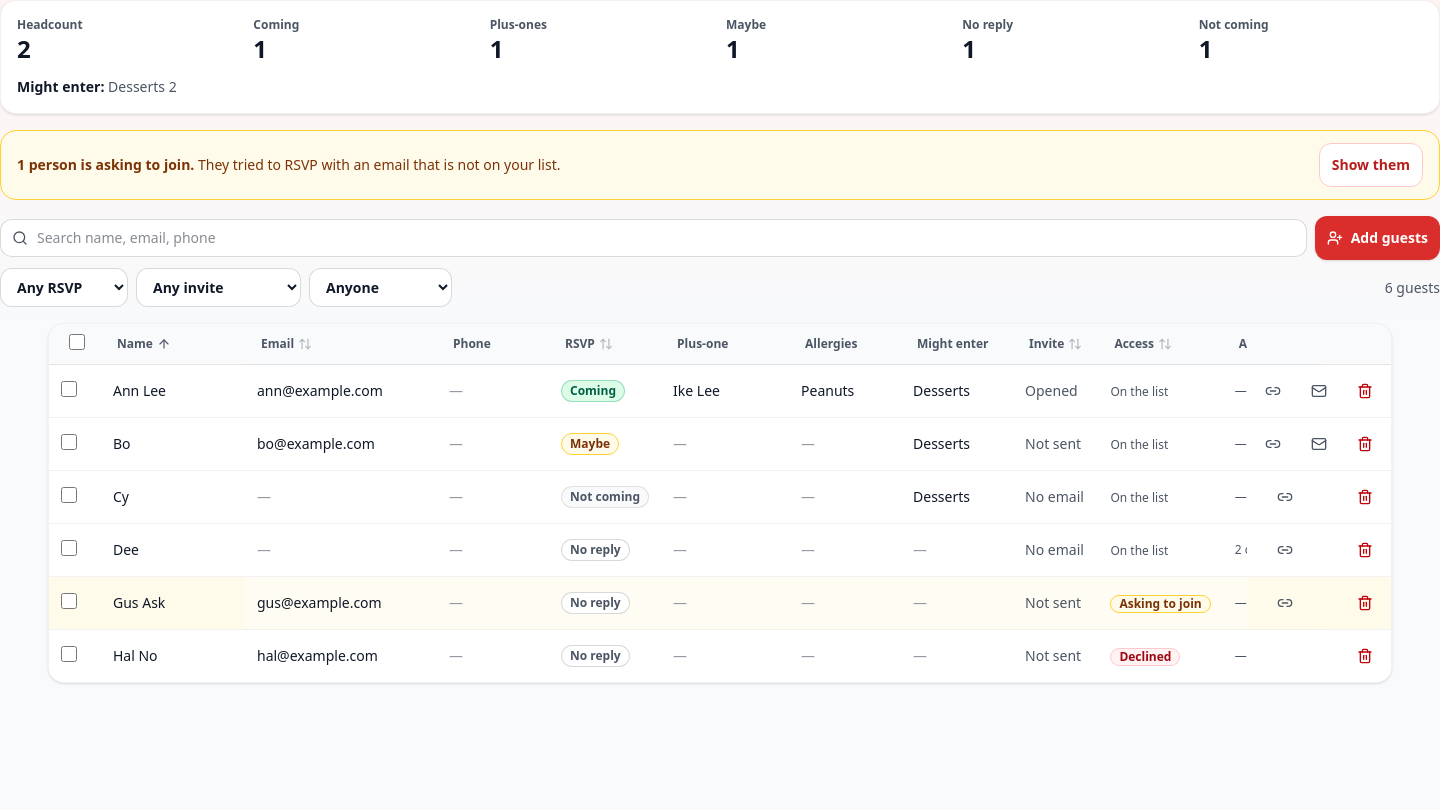
it: GuestsTab › on a wide screen › opens the email composer for the ticked guests
Click the checkbox named "Select Bo": (69, 442) [61, 434, 77, 450]
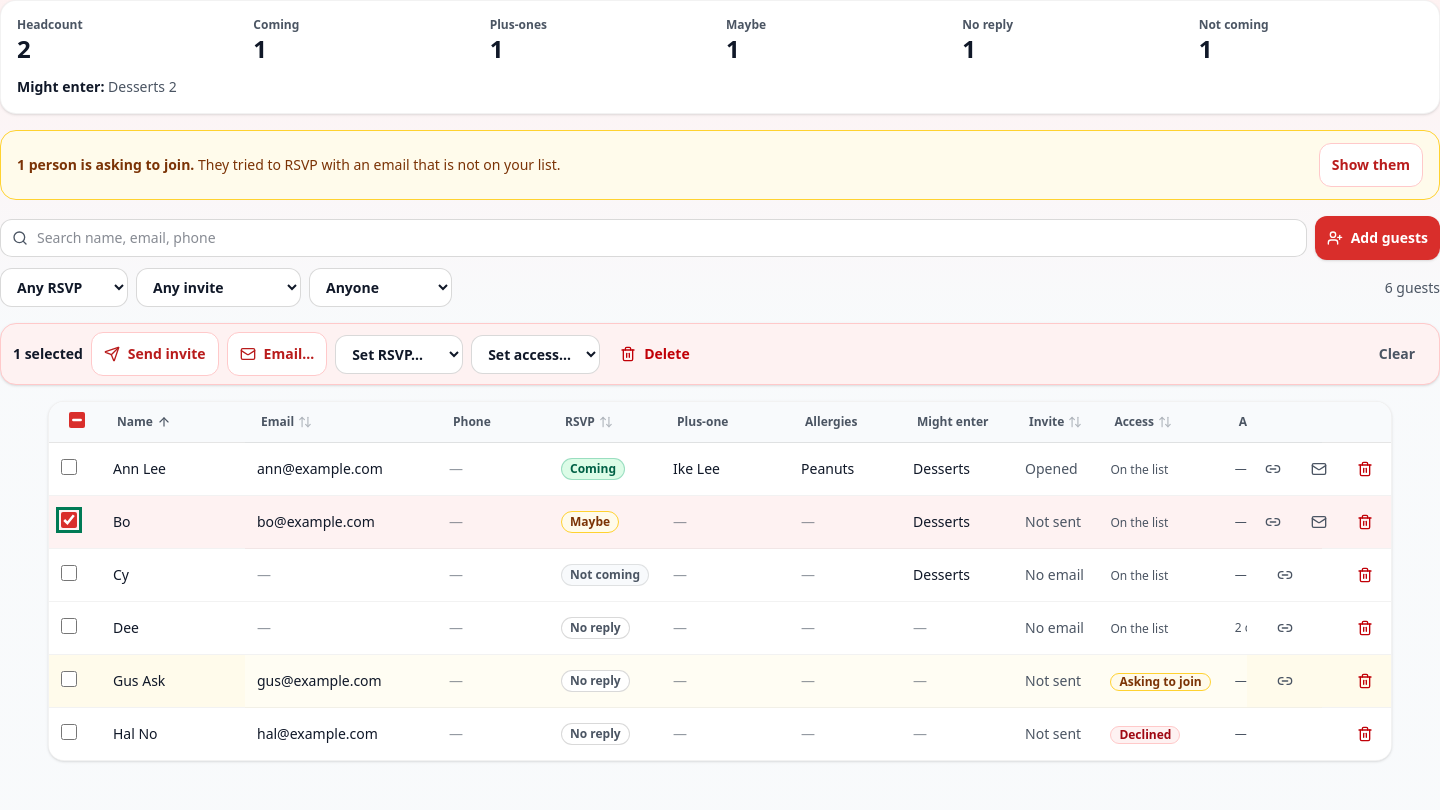
Click the checkbox named "Select Cy": (69, 572) [61, 564, 77, 580]
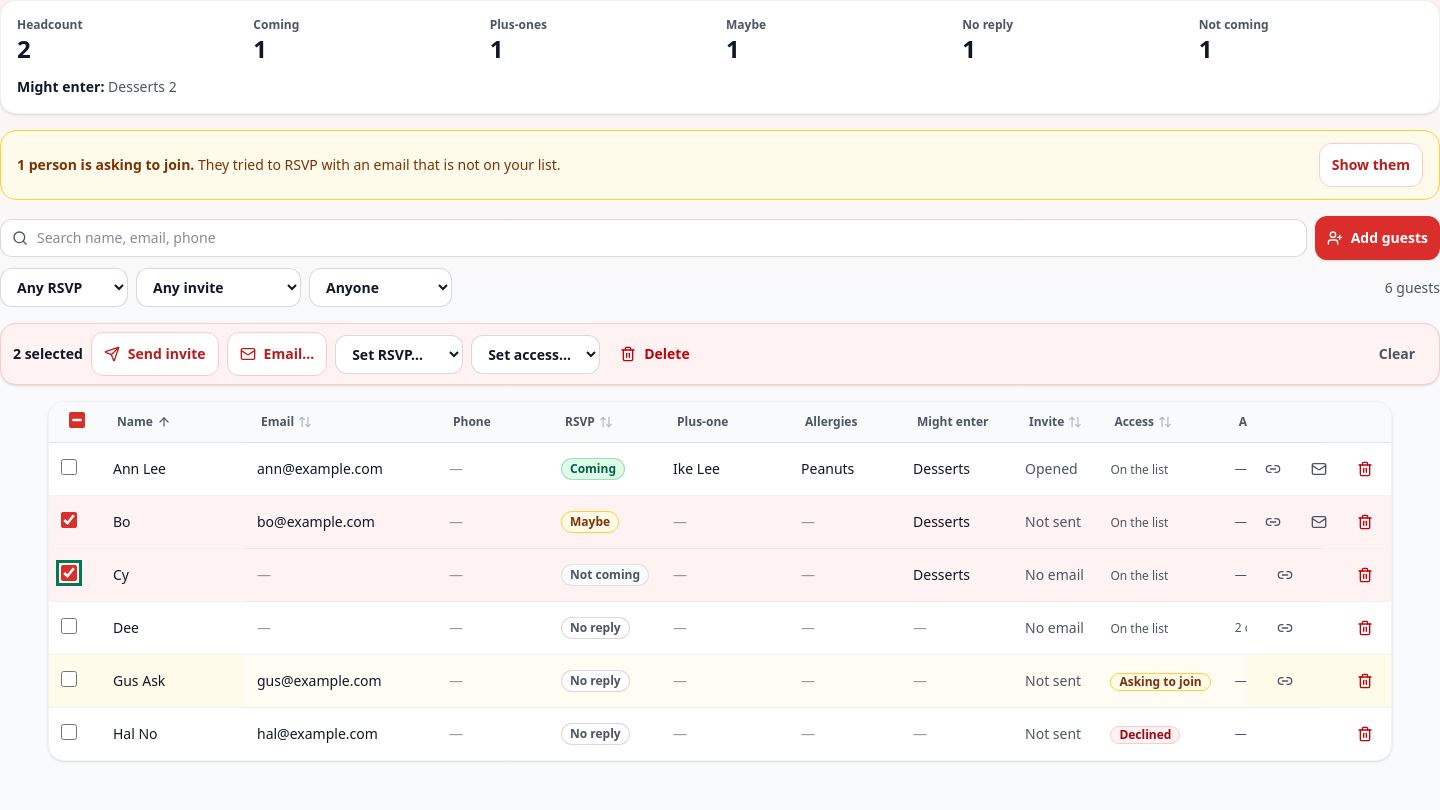
Click the button "Email…": (277, 354) [227, 332, 327, 376]
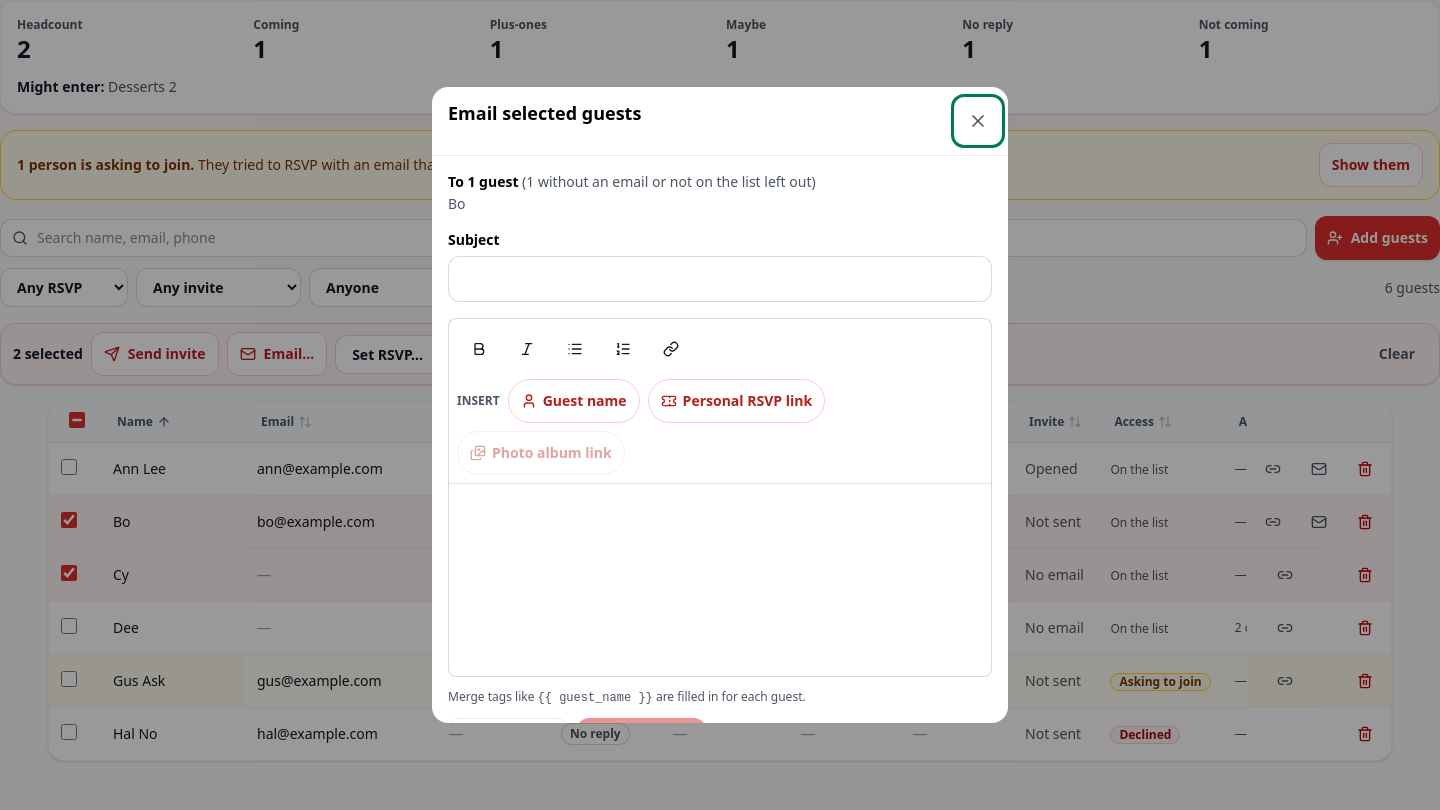
Now the text "To 1 guest" is shown, box [448, 172, 816, 191]
Now the text "(1 without an email or not on the list left out)" is shown, box [518, 172, 816, 191]
